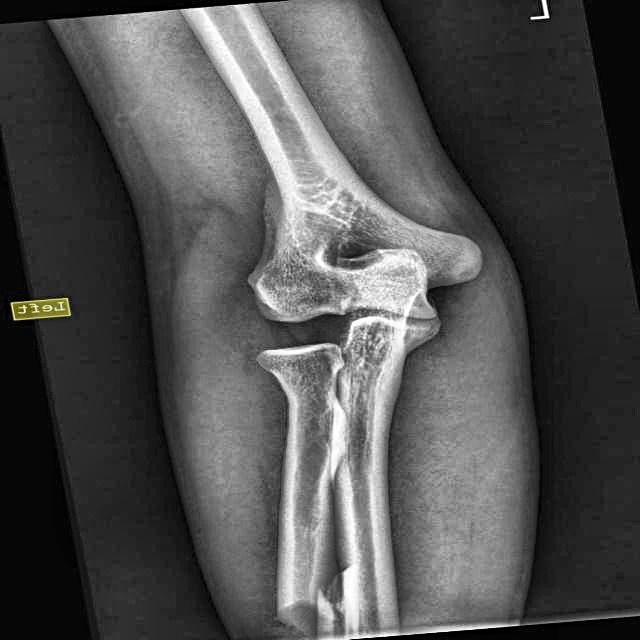Spiral: (273, 554, 399, 640)
